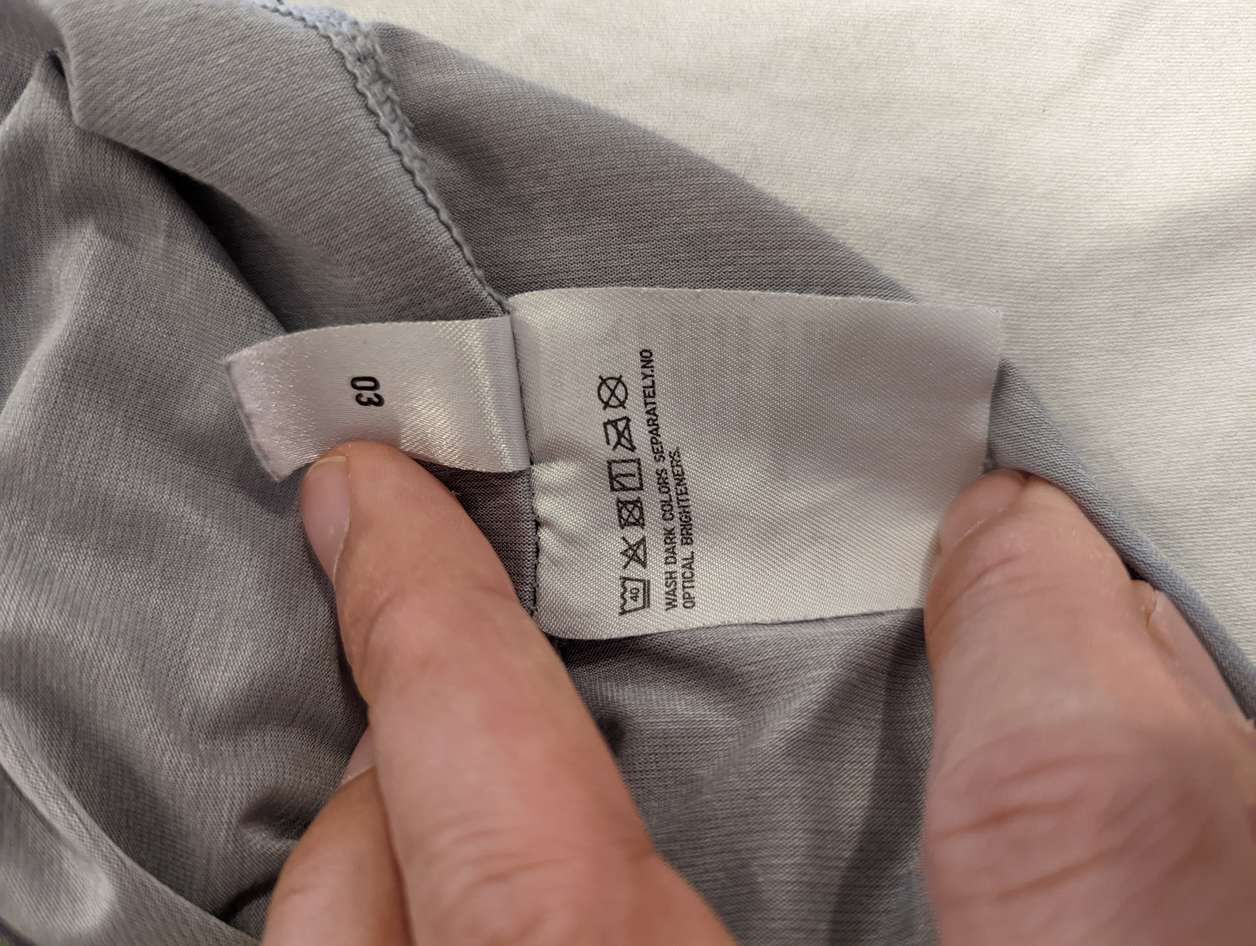ER_flat_dry_in_shade: (605, 456, 645, 492)
ER_no_bleach: (618, 531, 654, 571)
ER_no_dry_clean: (592, 369, 630, 412)
ER_no_iron: (601, 415, 640, 454)
ER_no_tumble_dry: (613, 494, 650, 532)
ER_wash_40_mild: (615, 571, 656, 620)
